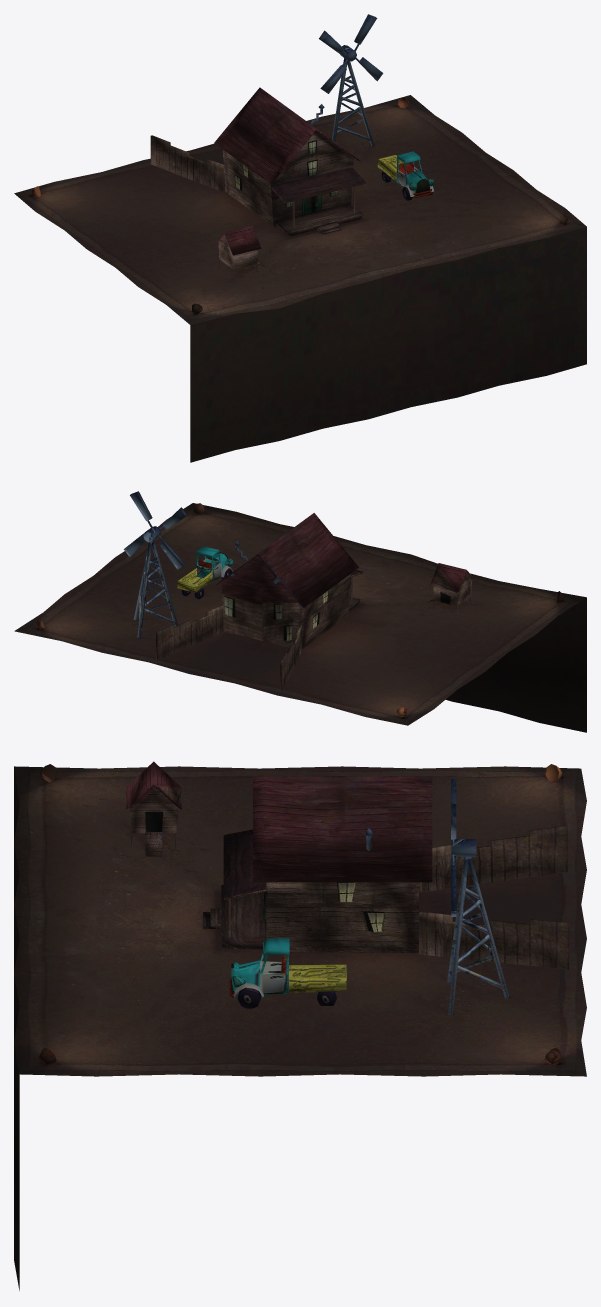
File: courage_map.glb
The picture shows the model from 3 angles, top to bottom: view 1: azimuth 30°, elevation 25°; view 2: azimuth 150°, elevation 25°; view 3: azimuth 270°, elevation 25°; orthographic projection. The views are drawn at different scales.
Parts seen in each view (by area): view 1: courageMap, courageMap.003, courageMap.002, courageMap.001; view 2: courageMap, courageMap.003, courageMap.002, courageMap.001; view 3: courageMap, courageMap.003, courageMap.002, courageMap.001.
Boxes of the visible parts, x1=… form: courageMap: x1=14, y1=58, x2=586, y2=462; courageMap.003: x1=214, y1=87, x2=365, y2=235; courageMap.002: x1=377, y1=151, x2=434, y2=200; courageMap.001: x1=319, y1=14, x2=383, y2=93; courageMap: x1=14, y1=503, x2=586, y2=732; courageMap.003: x1=214, y1=513, x2=363, y2=648; courageMap.002: x1=177, y1=546, x2=233, y2=599; courageMap.001: x1=123, y1=491, x2=187, y2=569; courageMap: x1=14, y1=761, x2=586, y2=1290; courageMap.003: x1=203, y1=776, x2=432, y2=952; courageMap.002: x1=229, y1=938, x2=346, y2=1008; courageMap.001: x1=451, y1=779, x2=476, y2=916.
Size of the model in its own units: 20.99 by 13.45 by 16.39.
Materials: 1 (1 with a texture image).
